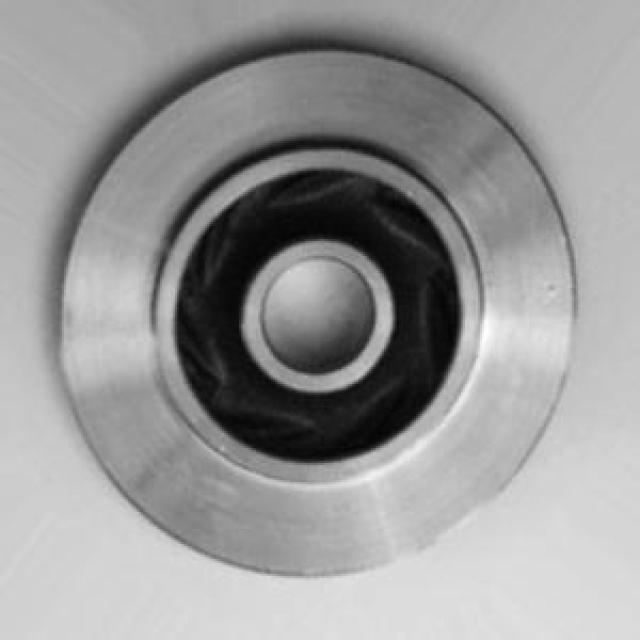Defect: (544, 280, 566, 305)
